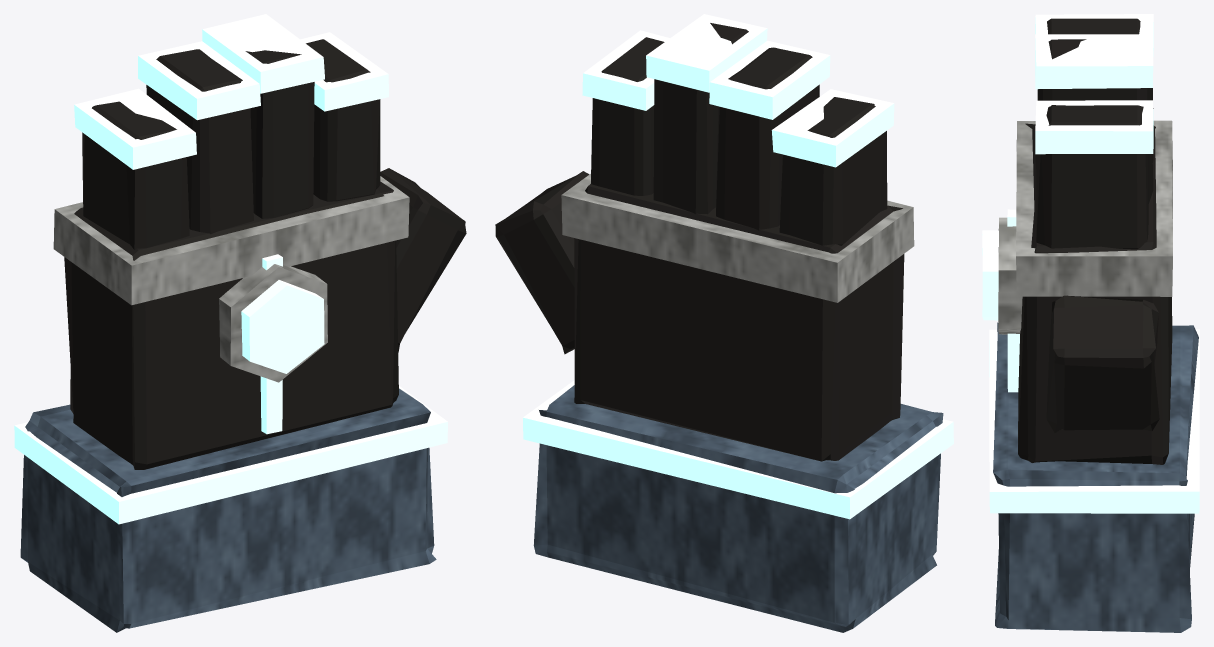
The model's file is starlight_gloves.glb.
3 renders of one model, left to right at view 1: azimuth 30°, elevation 25°; view 2: azimuth 150°, elevation 25°; view 3: azimuth 270°, elevation 25°, orthographic.
Visible parts, largest first — view 1: StarlightGloves; view 2: StarlightGloves; view 3: StarlightGloves.
Boxes of the visible parts, x1,y1,x2,y2 form: StarlightGloves: (14, 14, 466, 632); StarlightGloves: (495, 14, 953, 632); StarlightGloves: (982, 14, 1199, 632).
Bounding box in the file's own units: 0.4058 × 0.5244 × 0.1969.
Materials: 4 (2 with a texture image).
